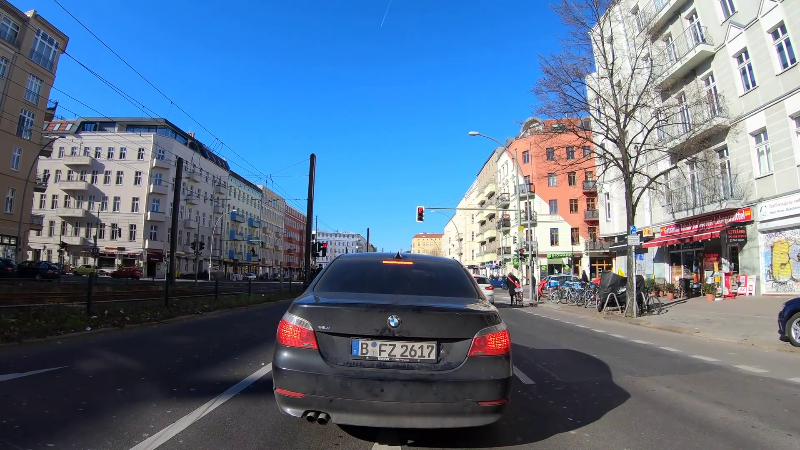Plate: (347, 335, 442, 366)
